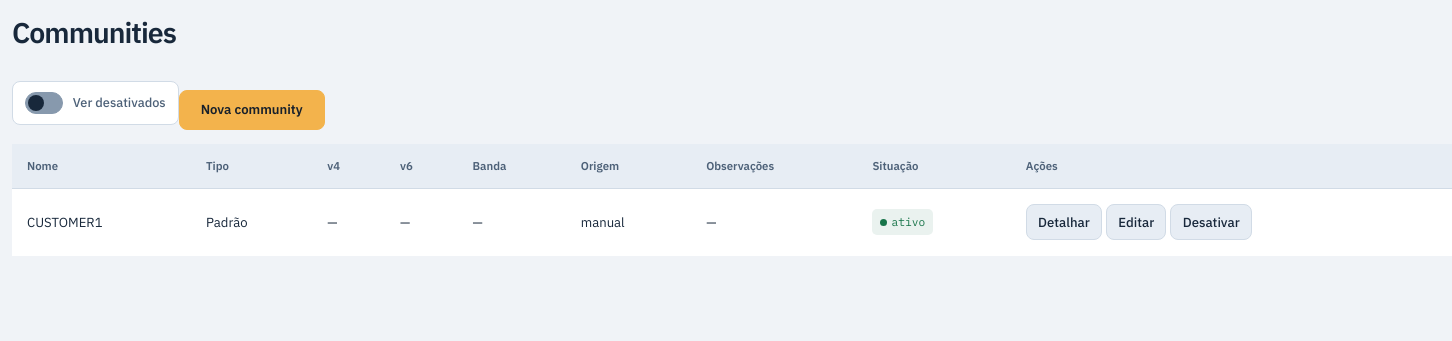
Test: Communities › ver desativados liga include_disabled e mostra o badge de inativo
The width and height of the screenshot is (1452, 341).
Check: the text "CUSTOMER1" is shown, box [12,188,191,256]
Step 1. Click the checkbox labelled "Ver desativados" → (44, 103), box [25,92,63,114]
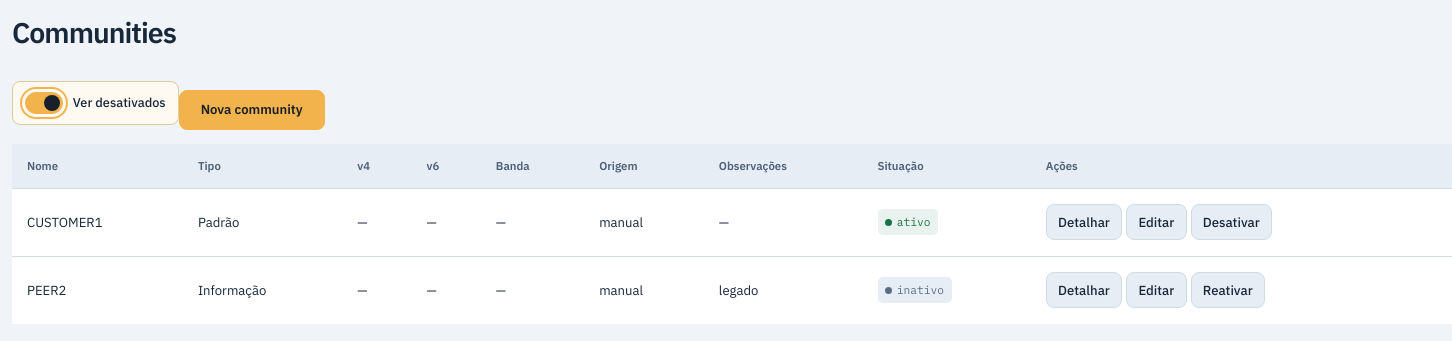
Check: the text "PEER2" is shown, box [12,256,183,324]
Check: the text "inativo" is shown, box [878,277,952,303]
